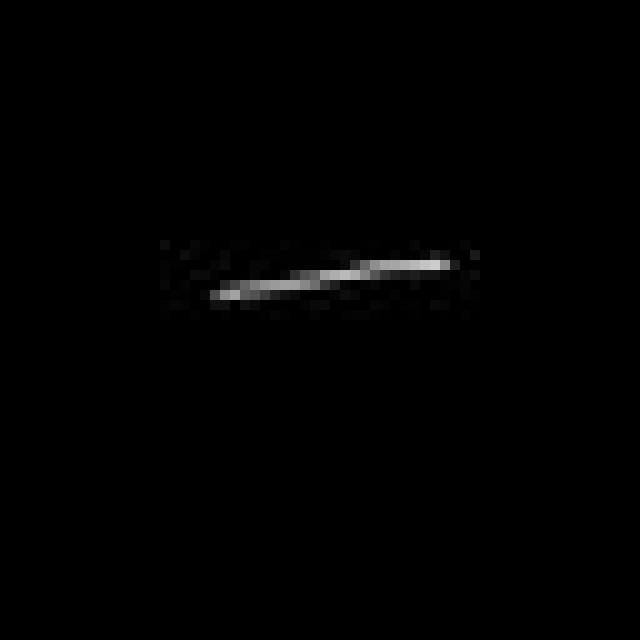1 -one-: (208, 247, 458, 325)
